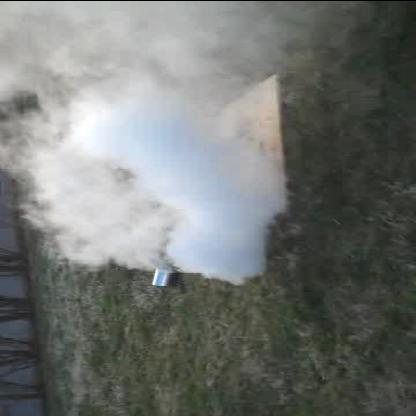Smoke: (18, 7, 270, 277)
